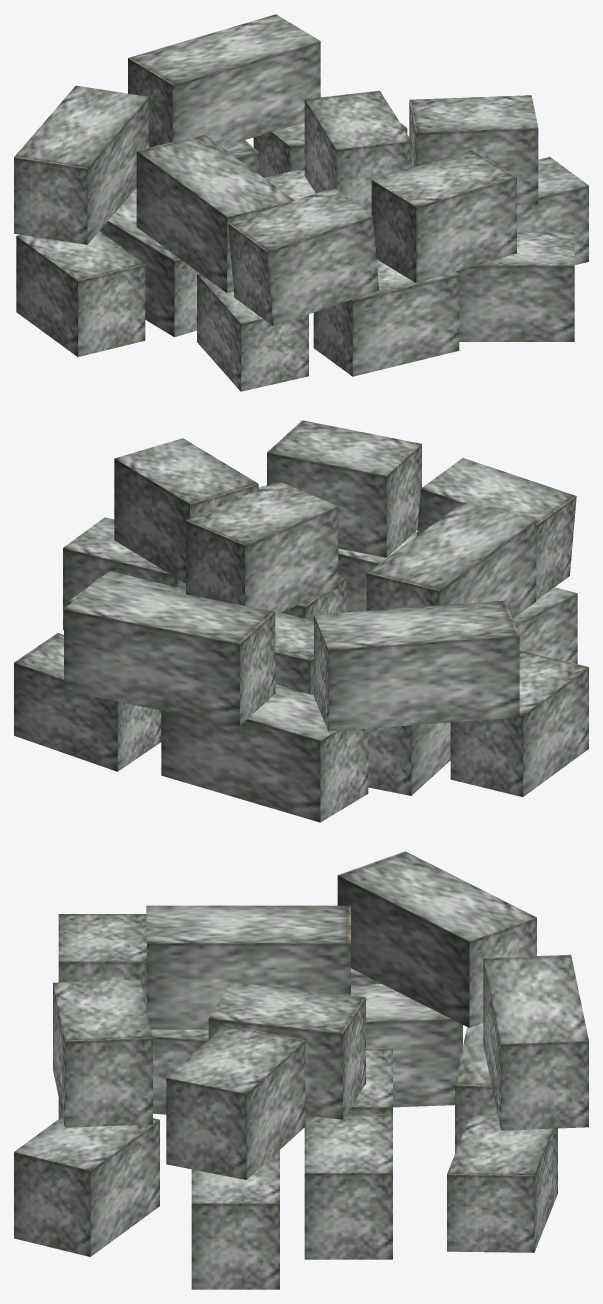
The model's file is stone_pile.dae.
The picture shows the model from 3 angles, top to bottom: view 1: azimuth 30°, elevation 25°; view 2: azimuth 150°, elevation 25°; view 3: azimuth 270°, elevation 25°; orthographic projection. The views are drawn at different scales.
Visible parts, largest first — view 1: Object04; view 2: Object04; view 3: Object04.
Part boxes in pixels (x1,y1,x2,y2): Object04: (14, 14, 588, 391); Object04: (14, 420, 588, 822); Object04: (14, 851, 588, 1289).
Bounding box in the file's own units: 4.92 × 1.53 × 4.5.
